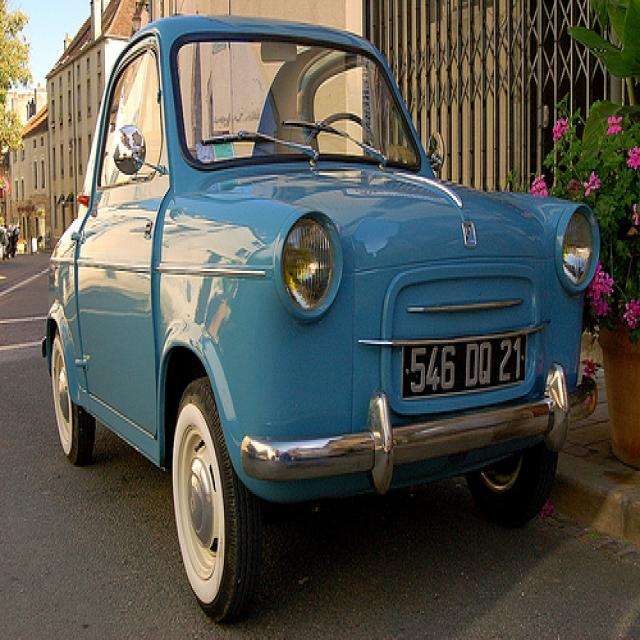Car: (28, 14, 601, 609)
